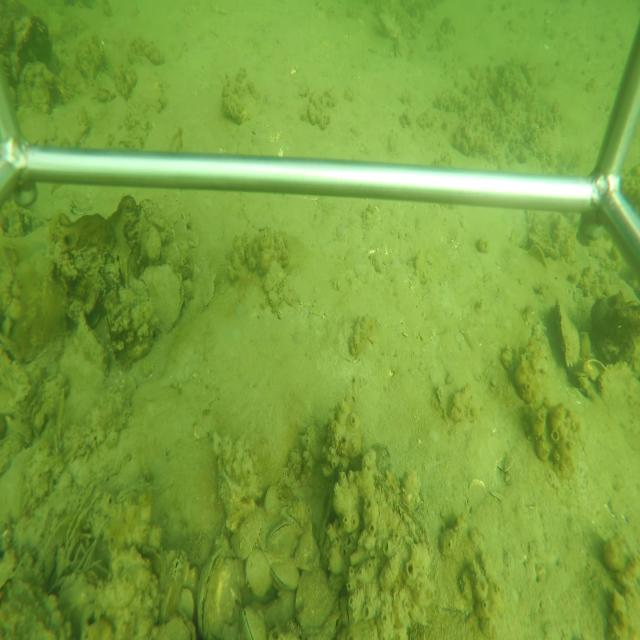Oyster-Closed: (198, 551, 245, 636), (140, 262, 186, 334), (76, 311, 111, 380), (555, 299, 579, 371), (230, 507, 263, 559), (244, 547, 272, 598), (266, 518, 300, 556), (241, 602, 266, 639), (271, 559, 298, 591), (376, 12, 398, 40)
Oyster-Indeterminate: (293, 568, 339, 633)
